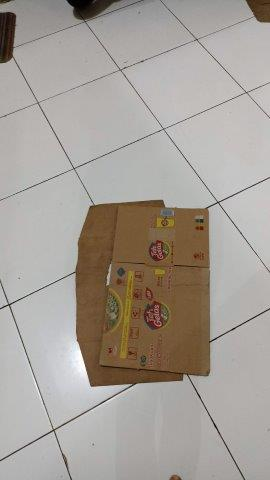kardus: (80, 205, 214, 381)
